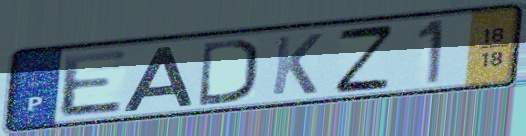1: (414, 17, 446, 87)
A: (119, 44, 196, 114)
D: (196, 36, 261, 108)
E: (59, 47, 131, 120)
K: (268, 31, 326, 98)
Z: (333, 22, 396, 96)
